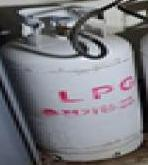cylinder: (1, 1, 148, 165)
